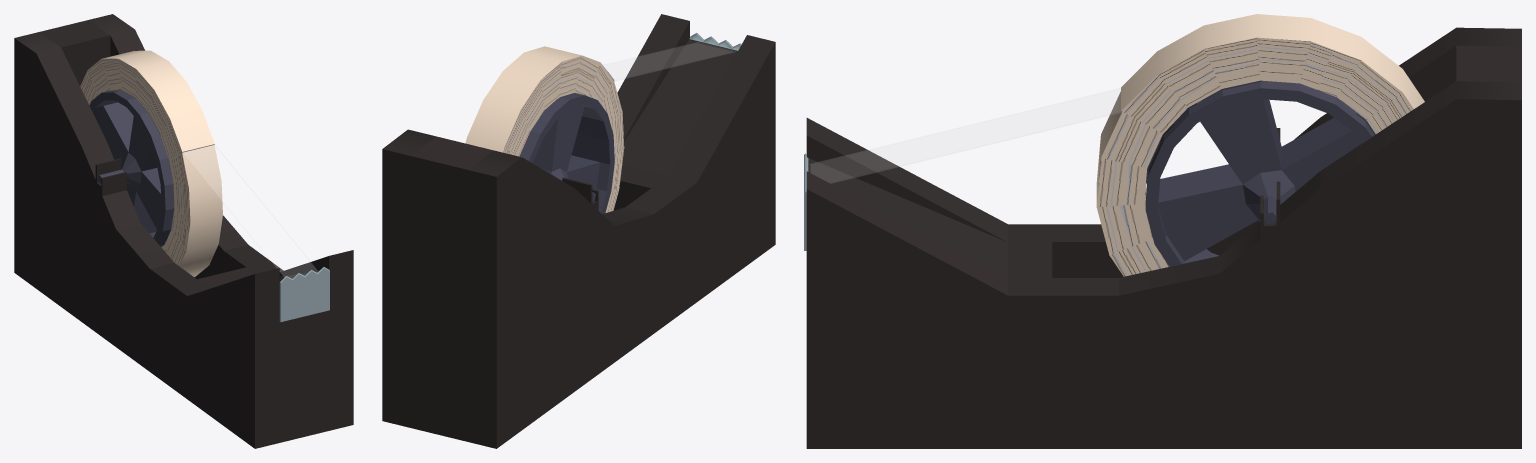
File: tape.fbx
3 renders of one model, left to right at view 1: azimuth 30°, elevation 25°; view 2: azimuth 150°, elevation 25°; view 3: azimuth 270°, elevation 25°, orthographic. The views are drawn at different scales.
Parts seen in each view (by area): view 1: pCube1, tape:polySurface3, tape:polySurface4, tape:polySurface2; view 2: pCube1, tape:polySurface3, tape:polySurface4, tape:polySurface2; view 3: pCube1, tape:polySurface3, tape:polySurface4, tape:polySurface2.
Part boxes in pixels (box(x1,y1,x2,y2)): pCube1: box(14, 14, 353, 448); tape:polySurface3: box(80, 50, 222, 276); tape:polySurface4: box(89, 90, 199, 247); tape:polySurface2: box(183, 145, 317, 278); pCube1: box(382, 14, 775, 448); tape:polySurface3: box(465, 46, 624, 212); tape:polySurface4: box(519, 93, 614, 213); tape:polySurface2: box(603, 42, 732, 80); pCube1: box(804, 27, 1521, 448); tape:polySurface3: box(1096, 14, 1424, 276); tape:polySurface4: box(1145, 80, 1375, 266); tape:polySurface2: box(810, 88, 1120, 183).
Bounding box in the file's own units: 1 × 2.53 × 4.25.
